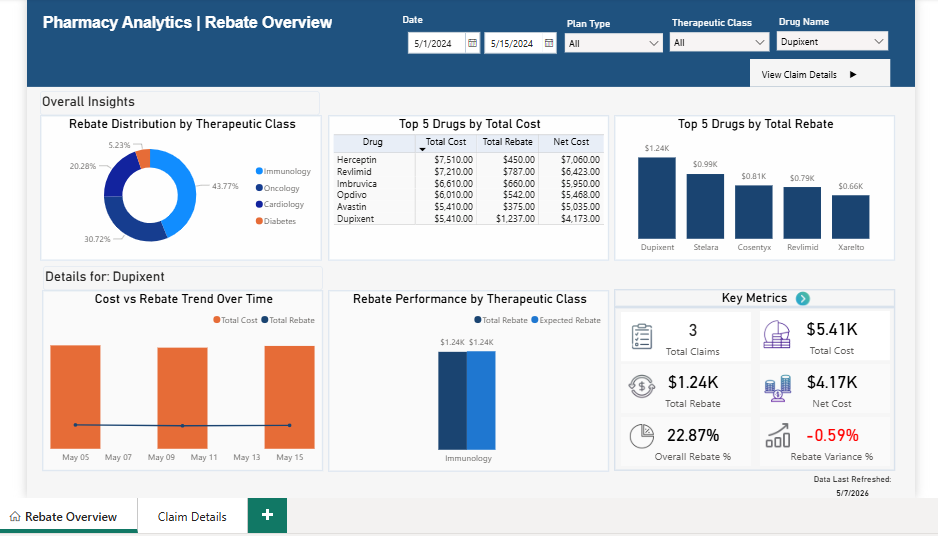

Layout of this report page (visuals, bound fields, positions):
{"tool":"powerbi","page":{"name":"Rebate Overview","canvas":[1280,720],"ordinal":0},"visuals":[{"type":"shape","box":[0,0,1280.2,128.2],"z":0},{"type":"card","title":"Data Last Refreshed:","fields":{"Values":["Min(RefreshDate.RefreshDate)"]},"box":[996.5,645.1,256.3,72],"z":1000},{"type":"clusteredBarChart","title":"Top Rebate-Generating Drugs","fields":{"Category":["Drugs.Drug_Name"],"Y":["Measures Table.Total Rebate"]},"box":[599,144,385.9,570.2],"z":2000},{"type":"tableEx","title":"Top Drugs by Cost","fields":{"Values":["Drugs.Drug_Name","Claims.Total Cost","Claims.Total Rebate","Claims.Net Cost"]},"box":[18.7,457.9,568.8,256.3],"z":3000},{"type":"donutChart","title":"Rebate Distribution by Therapeutic Class","fields":{"Category":["Drugs.Therapeutic_Class"],"Y":["Measures Table.Total Rebate"]},"box":[18.7,144,568.8,303.8],"z":4000},{"type":"group","id":"g1","title":"Group 1","box":[996.5,144.8,256.3,83.5],"z":5000},{"type":"group","id":"g2","title":"Group 2","box":[995,227.1,257.9,86.4],"z":6000},{"type":"group","id":"g3","title":"Group 3","box":[996.5,310.6,256.3,86.4],"z":7000},{"type":"group","id":"g4","title":"Group 4","box":[996.5,395.4,256,86],"z":8000},{"type":"group","id":"g5","title":"Group 5","box":[996.5,479.1,256.3,86.4],"z":9000},{"type":"slicer","fields":{"Values":["Drugs.Drug_Name"]},"box":[1069.9,20.2,180,57.6],"z":10000},{"type":"slicer","fields":{"Values":["Drugs.Therapeutic_Class"]},"box":[915.8,21.6,162.7,59],"z":11000},{"type":"slicer","fields":{"Values":["Plans.Plan_Type"]},"box":[764.6,23,161.3,60.5],"z":12000},{"type":"slicer","title":"Date","fields":{"Values":["Claims.Date"]},"box":[535.7,23,233.3,60.5],"z":13000},{"type":"card","title":"Rebate Variance  %","fields":{"Values":["Measures List.Rebate Variance %"]},"box":[996.5,562.6,256,86],"z":13000,"group":"g14"},{"type":"image","box":[2.9,85,47.5,41.8],"z":14000},{"type":"card","title":"Overall Rebate %","fields":{"Values":["Measures List.Rebate %"]},"box":[996.5,479.1,256.3,86.4],"z":14000,"group":"g13"},{"type":"card","title":"Net Cost","fields":{"Values":["Claims.Net Cost"]},"box":[996.5,395.4,256,86],"z":15000,"group":"g12"},{"type":"group","id":"g6","title":"Group 6","box":[996.5,562.6,256,86],"z":15000},{"type":"group","id":"g7","title":"Group 13","box":[85,83.6,153,40.4],"z":16000},{"type":"card","title":"Total Rebate","fields":{"Values":["Claims.Total Rebate"]},"box":[996.5,310.6,256.3,86.4],"z":16000,"group":"g11"},{"type":"actionButton","box":[85,83.6,152.8,38.9],"z":17000,"group":"g7"},{"type":"group","id":"g8","title":"Group 14","box":[248.2,83.7,212.1,39],"z":17000},{"type":"card","title":"Total Cost","fields":{"Values":["Claims.Total Cost"]},"box":[996.6,227.1,256.3,86.4],"z":17000,"group":"g10"},{"type":"actionButton","box":[85,85,153,39],"z":18000,"group":"g7"},{"type":"actionButton","box":[248.2,83.7,212.1,39],"z":19000,"group":"g8"},{"type":"card","title":"Total Claims","fields":{"Values":["Claims.Total Claims"]},"box":[996.5,144.8,256.3,83.5],"z":19000,"group":"g9"},{"type":"actionButton","box":[248.2,85.1,212.1,36.1],"z":19500,"group":"g8"},{"type":"group","id":"g9","title":"Group 7","box":[996.5,144.8,256.3,83.5],"z":23001,"group":"g1"},{"type":"group","id":"g10","title":"Group 8","box":[995,227.1,257.9,86.4],"z":23001,"group":"g2"},{"type":"group","id":"g11","title":"Group 9","box":[996.5,310.6,256.3,86.4],"z":23001,"group":"g3"},{"type":"group","id":"g12","title":"Group 10","box":[996.5,395.4,256,86],"z":23001,"group":"g4"},{"type":"group","id":"g13","title":"Group 11","box":[996.5,479.1,256.3,86.4],"z":23001,"group":"g5"},{"type":"group","id":"g14","title":"Group 12","box":[996.5,562.6,256,86],"z":23001,"group":"g6"},{"type":"image","box":[995,250.1,61.9,56.2],"z":24000,"group":"g10"},{"type":"image","box":[1010.9,499.3,47.5,49],"z":25000,"group":"g13"},{"type":"image","box":[1010.9,326.4,46.1,53.3],"z":26000,"group":"g11"},{"type":"image","box":[1013.8,409.8,49,50.4],"z":27000,"group":"g12"},{"type":"image","box":[1012.3,162.9,47.5,51.5],"z":28000,"group":"g9"},{"type":"image","box":[1013.7,582.2,54.7,41.8],"z":29000,"group":"g14"}]}

Visuals, with their boxes in screenshot pixels (x1, y1, x2, y2), scaled from the page's 1280x720 canvas onto the 938x536 screenshot:
shape: box(0, 0, 937, 95)
"Data Last Refreshed:" card: box(730, 480, 918, 534)
"Top Rebate-Generating Drugs" clusteredBarChart: box(439, 107, 722, 532)
"Top Drugs by Cost" tableEx: box(14, 341, 431, 532)
"Rebate Distribution by Therapeutic Class" donutChart: box(14, 107, 431, 333)
"Group 1" group: box(730, 108, 918, 170)
"Group 2" group: box(729, 169, 918, 233)
"Group 3" group: box(730, 231, 918, 296)
"Group 4" group: box(730, 294, 918, 358)
"Group 5" group: box(730, 357, 918, 421)
slicer - Drugs.Drug_Name: box(784, 15, 916, 58)
slicer - Drugs.Therapeutic_Class: box(671, 16, 790, 60)
slicer - Plans.Plan_Type: box(560, 17, 679, 62)
"Date" slicer: box(393, 17, 564, 62)
"Rebate Variance  %" card: box(730, 419, 918, 483)
image: box(2, 63, 37, 94)
"Overall Rebate %" card: box(730, 357, 918, 421)
"Net Cost" card: box(730, 294, 918, 358)
"Group 6" group: box(730, 419, 918, 483)
"Group 13" group: box(62, 62, 174, 92)
"Total Rebate" card: box(730, 231, 918, 296)
actionButton: box(62, 62, 174, 91)
"Group 14" group: box(182, 62, 337, 91)
"Total Cost" card: box(730, 169, 918, 233)
actionButton: box(62, 63, 174, 92)
actionButton: box(182, 62, 337, 91)
"Total Claims" card: box(730, 108, 918, 170)
actionButton: box(182, 63, 337, 90)
"Group 7" group: box(730, 108, 918, 170)
"Group 8" group: box(729, 169, 918, 233)
"Group 9" group: box(730, 231, 918, 296)
"Group 10" group: box(730, 294, 918, 358)
"Group 11" group: box(730, 357, 918, 421)
"Group 12" group: box(730, 419, 918, 483)
image: box(729, 186, 775, 228)
image: box(741, 372, 776, 408)
image: box(741, 243, 775, 283)
image: box(743, 305, 779, 343)
image: box(742, 121, 777, 160)
image: box(743, 433, 783, 465)
